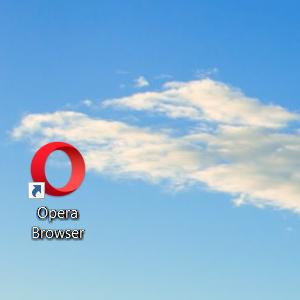opera: (28, 141, 86, 199)
